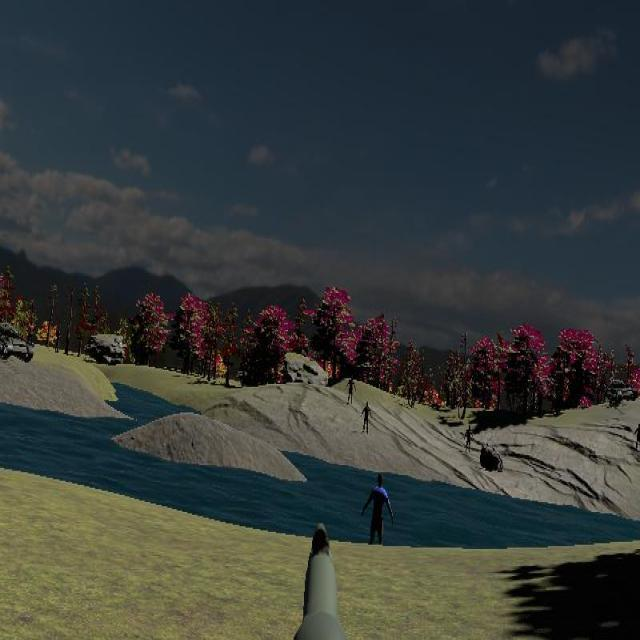Tank: (0, 321, 33, 363)
